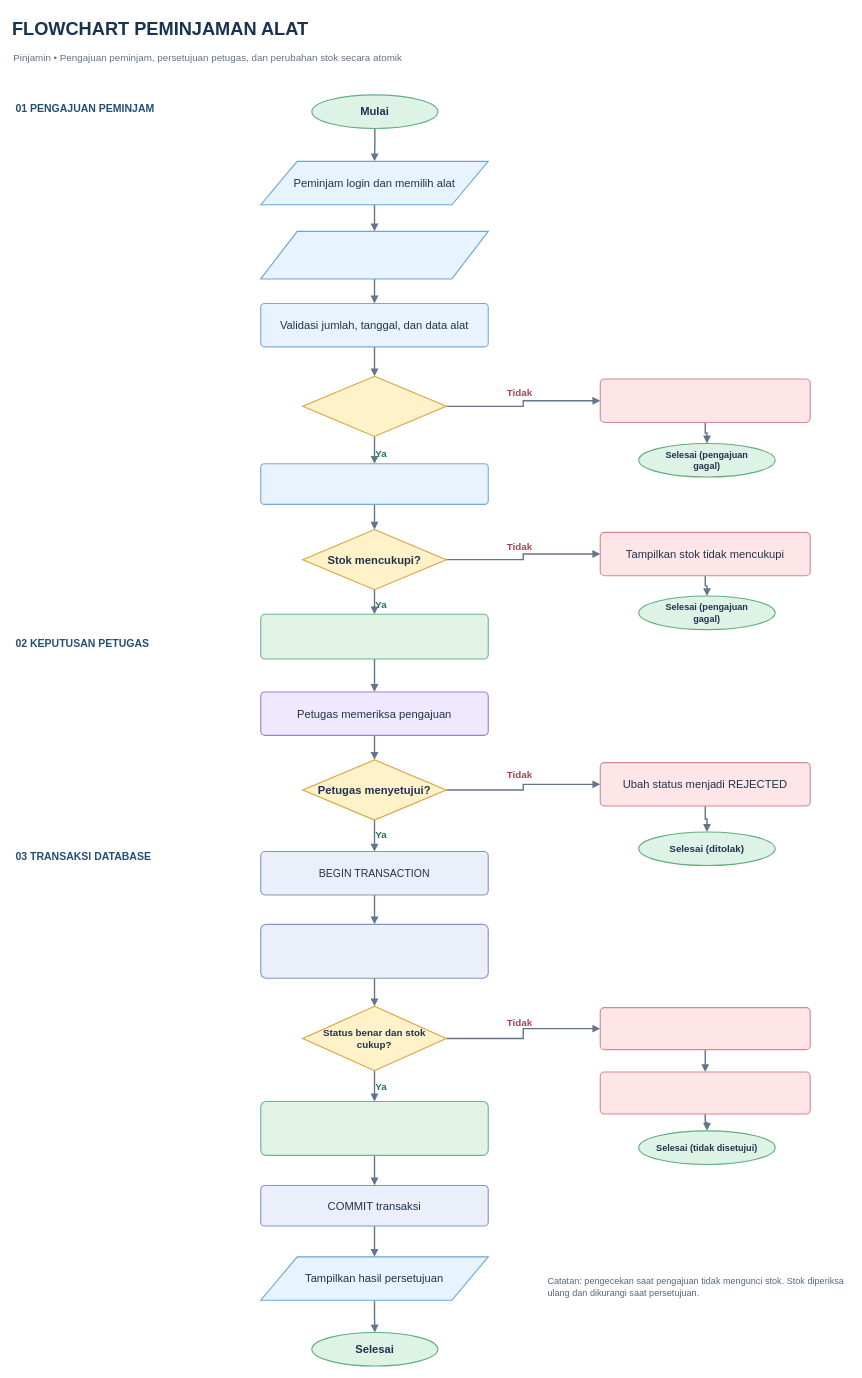
Some shapes in this 862 by 1378 pixel diagram are drawn without their labels. The shapes that lost their labels are listed below. From the top down, each one's box as (x1, y1, x2, y2) in pixels, then its label:
(260, 230, 488, 279): Isi jumlah dan tanggal jatuh tempo
(302, 375, 446, 437): Input valid?
(599, 378, 810, 423): Tampilkan kesalahan input
(260, 463, 488, 505): Periksa stok tersedia
(260, 613, 488, 659): Simpan pengajuan dengan status PENDING
(260, 923, 488, 978): Kunci baris terkait dan periksa status PENDING serta stok terbaru
(599, 1007, 810, 1050): ROLLBACK transaksi
(599, 1071, 810, 1114): Tampilkan persetujuan gagal
(260, 1101, 488, 1156): Kurangi stok dan ubah status menjadi APPROVED; catat petugas
